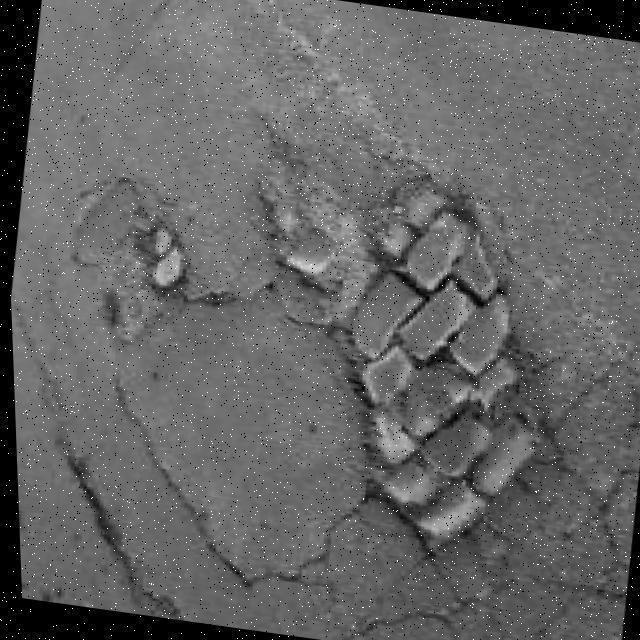Pothole: (256, 113, 544, 556), (128, 218, 190, 292)
